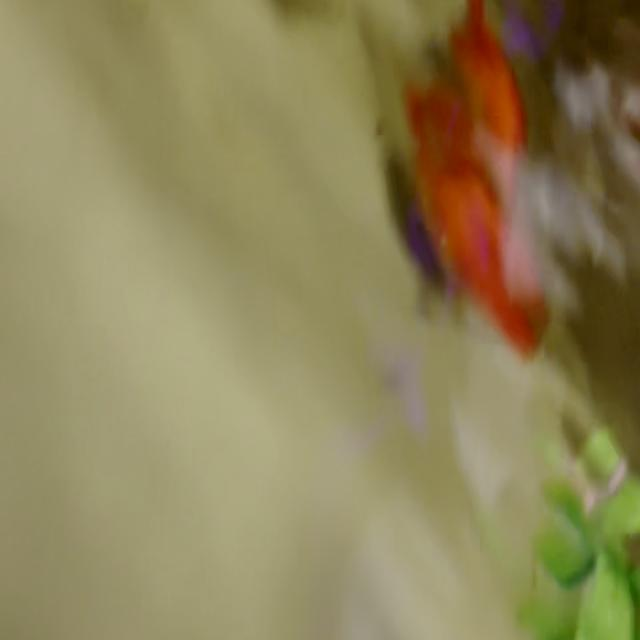fish: (402, 0, 548, 354)
